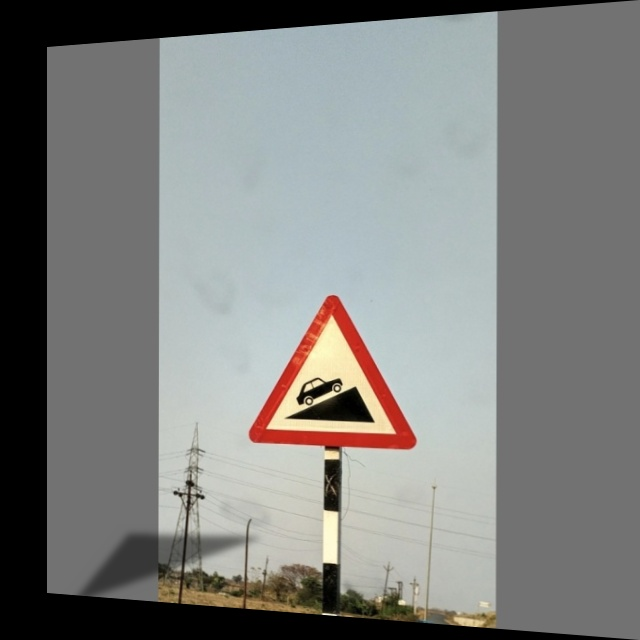Steep_Ascent: (250, 294, 418, 454)
